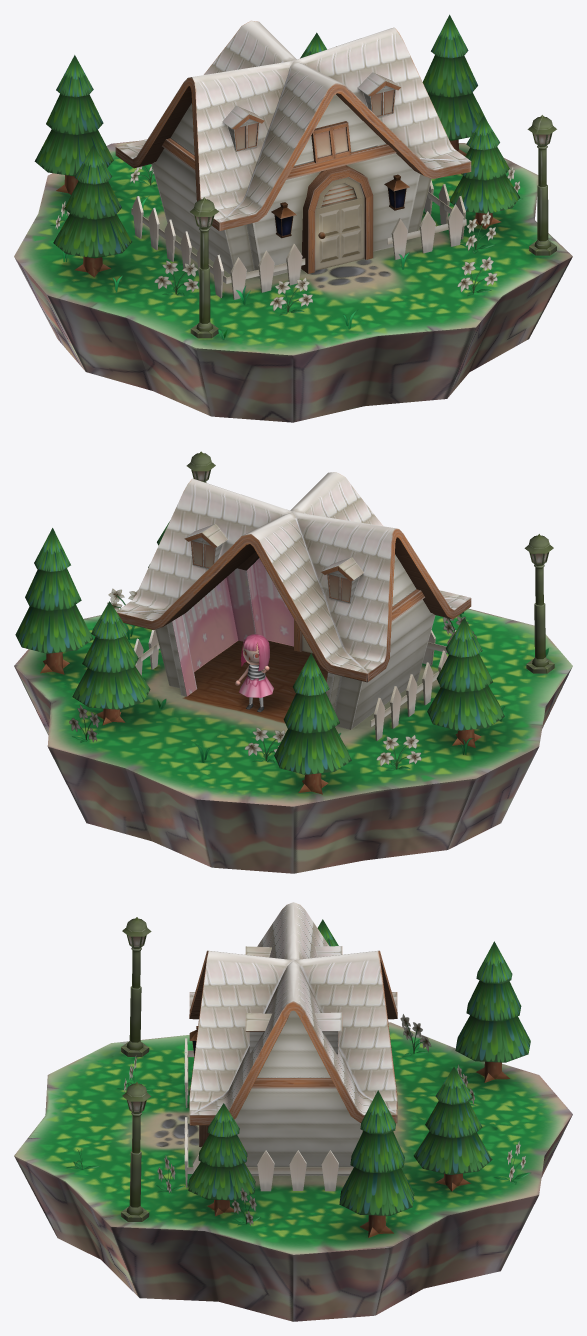
Rendered from animal_crossing_diorama.glb.
3 views of the same model, one above another, from view 1: azimuth 30°, elevation 25°; view 2: azimuth 150°, elevation 25°; view 3: azimuth 270°, elevation 25° (orthographic).
Visible parts, largest first — view 1: ground, top_House_0, wall_House_0, door_01_House_0, fence_House_0, tree_04_Decoration_0, tree_01_Decoration_0, tree_03_Decoration_0, tree_05_Decoration_0, lantern_01, lantern_02, window_House_0 (+8 smaller); view 2: ground, top_House_0, wall_House_0, tree_03_Decoration_0, tree_01_Decoration_0, tree_04_Decoration_0, tree_02_Decoration_0, fence_House_0, lantern_01, Character, roofwindow_04_House_0, roofwindow_03_House_0 (+3 smaller); view 3: ground, top_House_0, wall_House_0, tree_03_Decoration_0, tree_01_Decoration_0, tree_02_Decoration_0, tree_05_Decoration_0, fence_House_0, lantern_01, lantern_02, roofwindow_03_House_0, roofwindow_02_House_0 (+1 smaller).
Part boxes in pixels (box(x1,y1,x2,y2)): ground: box(14, 140, 572, 422); top_House_0: box(115, 20, 471, 231); wall_House_0: box(151, 94, 431, 276); door_01_House_0: box(301, 165, 373, 273); fence_House_0: box(131, 180, 466, 299); tree_04_Decoration_0: box(53, 145, 132, 277); tree_01_Decoration_0: box(34, 55, 113, 194); tree_03_Decoration_0: box(422, 14, 487, 156); tree_05_Decoration_0: box(449, 115, 519, 229); lantern_01: box(190, 197, 218, 338); lantern_02: box(527, 115, 556, 255); window_House_0: box(311, 121, 351, 163); ground: box(14, 608, 572, 873); top_House_0: box(116, 472, 471, 682); wall_House_0: box(155, 554, 435, 729); tree_03_Decoration_0: box(15, 528, 92, 674); tree_01_Decoration_0: box(274, 653, 351, 794); tree_04_Decoration_0: box(427, 617, 504, 747); tree_02_Decoration_0: box(72, 601, 150, 725); fence_House_0: box(134, 630, 456, 740); lantern_01: box(524, 534, 554, 673); Character: box(235, 634, 273, 712); roofwindow_04_House_0: box(321, 557, 363, 603); roofwindow_03_House_0: box(184, 523, 227, 568); ground: box(14, 1022, 572, 1321); top_House_0: box(189, 902, 397, 1125); wall_House_0: box(234, 1010, 362, 1175); tree_03_Decoration_0: box(339, 1090, 414, 1237); tree_01_Decoration_0: box(455, 941, 530, 1082); tree_02_Decoration_0: box(413, 1067, 492, 1191); tree_05_Decoration_0: box(188, 1103, 255, 1216); fence_House_0: box(184, 1038, 353, 1191); lantern_01: box(121, 917, 151, 1056); lantern_02: box(121, 1082, 151, 1221); roofwindow_03_House_0: box(315, 1012, 342, 1054); roofwindow_02_House_0: box(245, 1013, 271, 1053).
Size of the model in its own units: 600 by 315 by 591.
3 materials, 3 textured.
